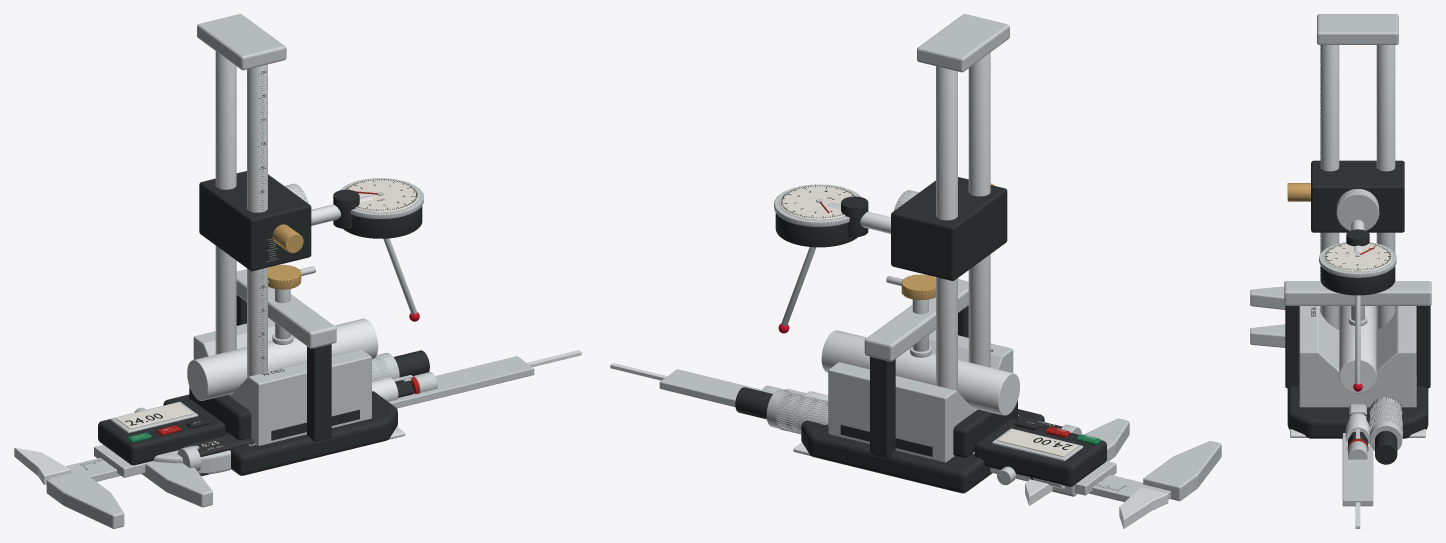
File: metrology-tools.glb
The picture shows the model from 3 angles, left to right: view 1: azimuth 30°, elevation 25°; view 2: azimuth 150°, elevation 25°; view 3: azimuth 270°, elevation 25°; orthographic projection. The views are drawn at different scales.
Parts seen in each view (by area): view 1: height-gauge-dial-black, height-gauge-dial-lap, v-block-clamp-steel, digital-calipers-150mm-steel, v-block-clamp-lap, height-gauge-dial-steel, digital-calipers-150mm-black, v-block-clamp-black, height-gauge-dial-ivory, micrometer-0-25mm-steel, digital-calipers-150mm-lap, digital-calipers-150mm-ivory (+3 smaller); view 2: height-gauge-dial-black, height-gauge-dial-lap, v-block-clamp-steel, digital-calipers-150mm-steel, v-block-clamp-lap, height-gauge-dial-steel, digital-calipers-150mm-black, v-block-clamp-black, digital-calipers-150mm-lap, micrometer-0-25mm-steel, height-gauge-dial-ivory, detail-micrometer-0-25mm-steel (+3 smaller); view 3: v-block-clamp-steel, height-gauge-dial-black, height-gauge-dial-lap, height-gauge-dial-steel, digital-calipers-150mm-steel, v-block-clamp-lap, v-block-clamp-black, height-gauge-dial-ivory, micrometer-0-25mm-steel, micrometer-0-25mm-black, detail-micrometer-0-25mm-steel, height-gauge-dial-brass (+4 smaller).
Boxes of the visible parts, bbox=[...] form: height-gauge-dial-black: bbox=[163, 171, 422, 475]; height-gauge-dial-lap: bbox=[215, 51, 405, 475]; v-block-clamp-steel: bbox=[193, 266, 371, 445]; digital-calipers-150mm-steel: bbox=[46, 356, 534, 528]; v-block-clamp-lap: bbox=[187, 318, 378, 400]; height-gauge-dial-steel: bbox=[197, 14, 423, 314]; digital-calipers-150mm-black: bbox=[98, 400, 225, 465]; v-block-clamp-black: bbox=[236, 295, 359, 441]; height-gauge-dial-ivory: bbox=[248, 179, 418, 446]; micrometer-0-25mm-steel: bbox=[152, 353, 399, 474]; digital-calipers-150mm-lap: bbox=[14, 350, 581, 484]; digital-calipers-150mm-ivory: bbox=[115, 402, 200, 437]; height-gauge-dial-black: bbox=[775, 177, 1044, 493]; height-gauge-dial-lap: bbox=[793, 52, 992, 493]; v-block-clamp-steel: bbox=[828, 276, 1013, 462]; digital-calipers-150mm-steel: bbox=[659, 369, 1221, 509]; v-block-clamp-lap: bbox=[821, 330, 1019, 415]; height-gauge-dial-steel: bbox=[774, 14, 1009, 325]; digital-calipers-150mm-black: bbox=[974, 418, 1106, 486]; v-block-clamp-black: bbox=[840, 306, 968, 457]; digital-calipers-150mm-lap: bbox=[610, 363, 1168, 528]; micrometer-0-25mm-steel: bbox=[766, 389, 1077, 496]; height-gauge-dial-ivory: bbox=[779, 185, 1018, 415]; detail-micrometer-0-25mm-steel: bbox=[775, 391, 1059, 434]; v-block-clamp-steel: bbox=[1284, 281, 1431, 407]; height-gauge-dial-black: bbox=[1287, 160, 1428, 438]; height-gauge-dial-lap: bbox=[1290, 45, 1425, 437]; height-gauge-dial-steel: bbox=[1317, 14, 1398, 384]; digital-calipers-150mm-steel: bbox=[1250, 286, 1373, 506]; v-block-clamp-lap: bbox=[1339, 306, 1376, 393]; v-block-clamp-black: bbox=[1285, 306, 1430, 399]; height-gauge-dial-ivory: bbox=[1323, 243, 1392, 271]; micrometer-0-25mm-steel: bbox=[1369, 397, 1402, 450]; micrometer-0-25mm-black: bbox=[1375, 431, 1397, 464]; detail-micrometer-0-25mm-steel: bbox=[1369, 400, 1402, 438]; height-gauge-dial-brass: bbox=[1287, 183, 1310, 201].
Size of the model in its own units: 0.238 by 0.17 by 0.0775.
